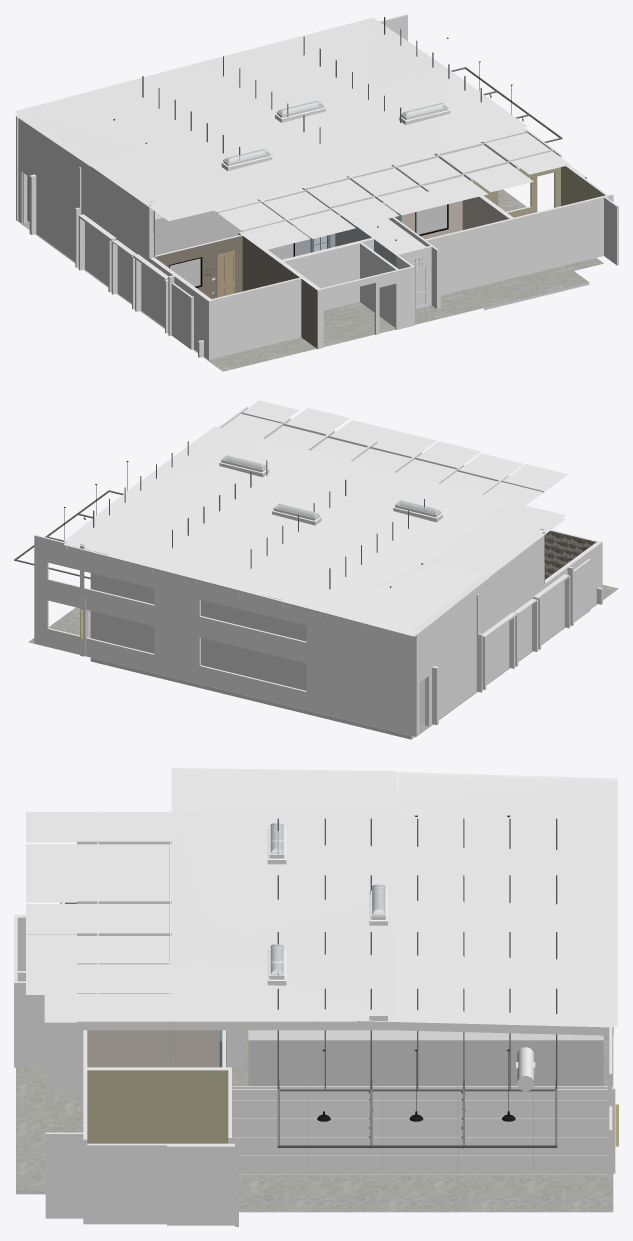
Rendered from Google_Schoolhouse-small_hub_01.glb.
The picture shows the model from 3 angles, top to bottom: view 1: azimuth 30°, elevation 25°; view 2: azimuth 150°, elevation 25°; view 3: azimuth 270°, elevation 25°; orthographic projection. The views are drawn at different scales.
Visible parts, largest first — view 1: Mesh7434 Group1241 Group1240 Group1239 Model, rooms_wall, main_floor, windows_wall, available_moving_area, Mesh8748 Group1263 Group1249 Model, Mesh8741 Group1257 Group1249 Model, Mesh8747 Group1262 Group1249 Model, Mesh8742 Group1258 Group1249 Model, Mesh8745 Group1260 Group1249 Model, Mesh8743 Group1259 Group1249 Model, Mesh8746 Group1261 Group1249 Model (+7 smaller); view 2: Mesh7434 Group1241 Group1240 Group1239 Model, windows_wall, rooms_wall, available_moving_area, Mesh8748 Group1263 Group1249 Model, Mesh8747 Group1262 Group1249 Model, Mesh8745 Group1260 Group1249 Model, Mesh8742 Group1258 Group1249 Model, Mesh8741 Group1257 Group1249 Model, Mesh8743 Group1259 Group1249 Model, Mesh8746 Group1261 Group1249 Model, main_floor (+4 smaller); view 3: Mesh7434 Group1241 Group1240 Group1239 Model, rooms_wall, main_floor, available_moving_area, Mesh8748 Group1263 Group1249 Model, Mesh8742 Group1258 Group1249 Model, Mesh8747 Group1262 Group1249 Model, Mesh8745 Group1260 Group1249 Model, Mesh8741 Group1257 Group1249 Model, Mesh8743 Group1259 Group1249 Model, Mesh8746 Group1261 Group1249 Model, Mesh8817 Component_242_3 Group1249 Model (+32 smaller).
Boxes of the visible parts, x1,y1,x2,y2 form: Mesh7434 Group1241 Group1240 Group1239 Model: (14, 17, 527, 220); rooms_wall: (22, 165, 618, 359); main_floor: (17, 189, 603, 371); windows_wall: (16, 14, 407, 269); available_moving_area: (27, 176, 446, 286); Mesh8748 Group1263 Group1249 Model: (214, 200, 310, 249); Mesh8741 Group1257 Group1249 Model: (261, 188, 355, 238); Mesh8747 Group1262 Group1249 Model: (304, 177, 399, 226); Mesh8742 Group1258 Group1249 Model: (350, 165, 444, 215); Mesh8745 Group1260 Group1249 Model: (438, 142, 533, 192); Mesh8743 Group1259 Group1249 Model: (395, 154, 488, 204); Mesh8746 Group1261 Group1249 Model: (485, 131, 570, 174); Mesh7434 Group1241 Group1240 Group1239 Model: (64, 426, 565, 636); windows_wall: (34, 533, 544, 736); rooms_wall: (433, 530, 602, 725); available_moving_area: (90, 573, 424, 739); Mesh8748 Group1263 Group1249 Model: (483, 464, 567, 505); Mesh8747 Group1262 Group1249 Model: (396, 441, 481, 483); Mesh8745 Group1260 Group1249 Model: (265, 408, 349, 449); Mesh8742 Group1258 Group1249 Model: (352, 430, 436, 471); Mesh8741 Group1257 Group1249 Model: (440, 453, 523, 494); Mesh8743 Group1259 Group1249 Model: (311, 420, 394, 460); Mesh8746 Group1261 Group1249 Model: (222, 400, 299, 437); main_floor: (28, 585, 618, 736); Mesh7434 Group1241 Group1240 Group1239 Model: (171, 768, 617, 1026); rooms_wall: (14, 902, 243, 1226); main_floor: (16, 1030, 613, 1212); available_moving_area: (248, 850, 603, 1169); Mesh8748 Group1263 Group1249 Model: (26, 812, 171, 842); Mesh8742 Group1258 Group1249 Model: (26, 904, 171, 934); Mesh8747 Group1262 Group1249 Model: (26, 872, 171, 902); Mesh8745 Group1260 Group1249 Model: (26, 964, 171, 994); Mesh8741 Group1257 Group1249 Model: (26, 844, 171, 871); Mesh8743 Group1259 Group1249 Model: (26, 934, 282, 964); Mesh8746 Group1261 Group1249 Model: (44, 993, 171, 1022); Mesh8817 Component_242_3 Group1249 Model: (76, 1020, 386, 1030).
Bounding box in the file's own units: 938 × 287 × 786.
49 materials, 12 textured.
